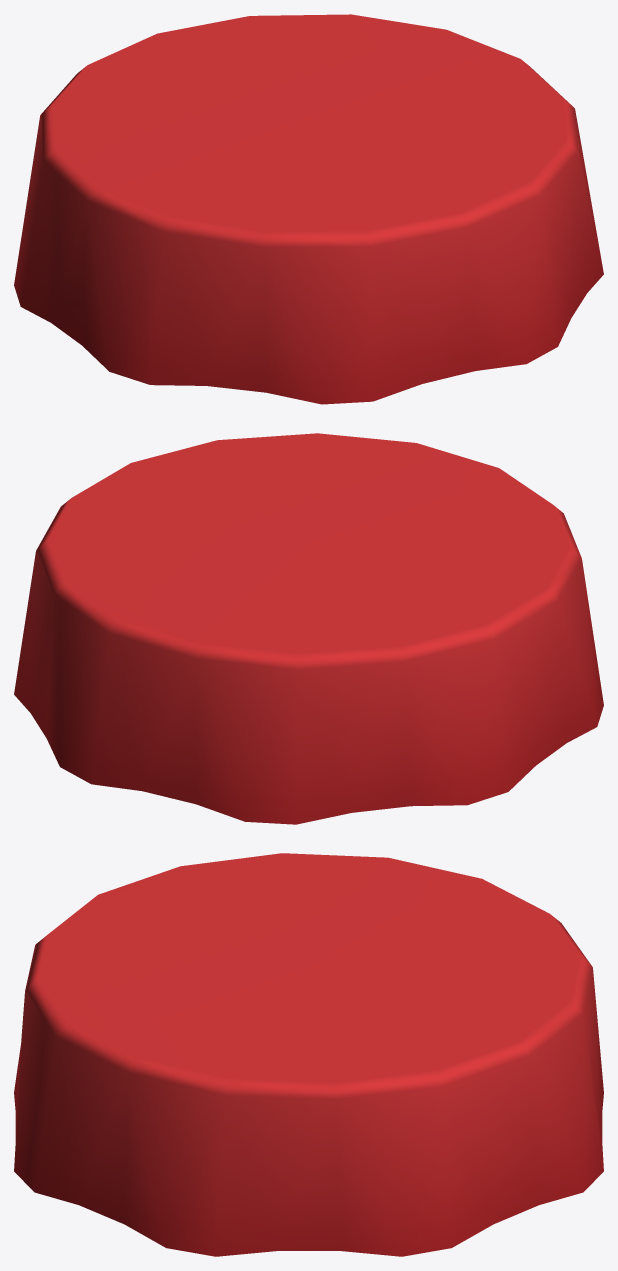
File: Tablecloth_01.obj
The picture shows the model from 3 angles, top to bottom: view 1: azimuth 30°, elevation 25°; view 2: azimuth 150°, elevation 25°; view 3: azimuth 270°, elevation 25°; orthographic projection. The views are drawn at different scales.
Parts seen in each view (by area): view 1: Tablecloth_01; view 2: Tablecloth_01; view 3: Tablecloth_01.
Boxes of the visible parts, box(x1,y1,x2,y2) form: Tablecloth_01: box(14, 14, 603, 404); Tablecloth_01: box(14, 433, 603, 824); Tablecloth_01: box(14, 853, 603, 1256).
Size of the model in its own units: 1.04 by 0.3188 by 1.04.
1 material, 1 textured.
